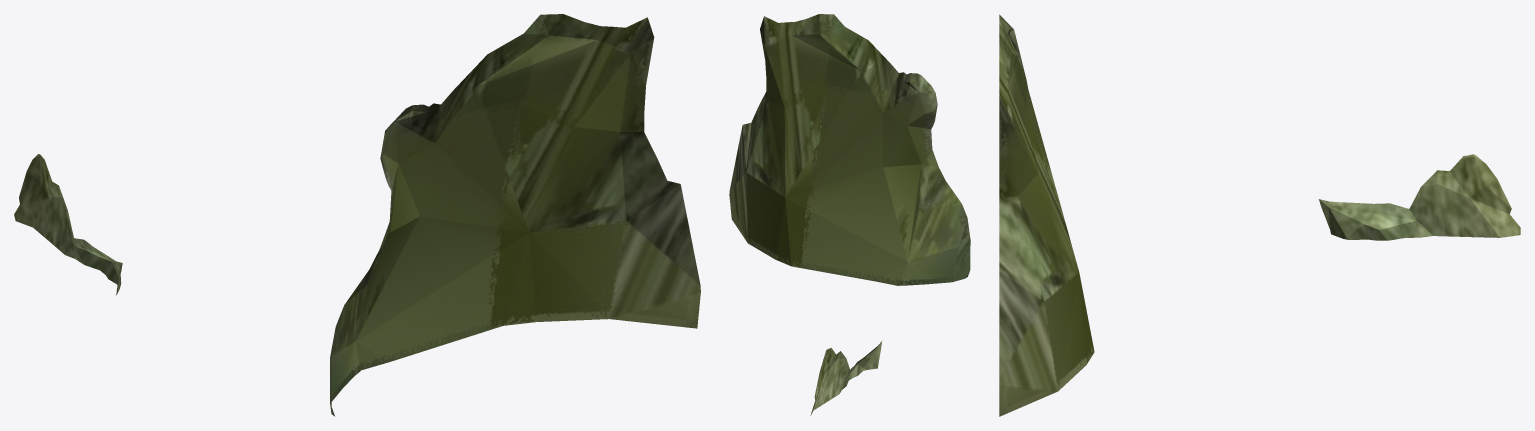
3 renders of one model, left to right at view 1: azimuth 30°, elevation 25°; view 2: azimuth 150°, elevation 25°; view 3: azimuth 270°, elevation 25°, orthographic. The views are drawn at different scales.
Size of the model in its own units: 4.93 by 4.09 by 5.9.
Materials: 2 (2 with a texture image).
